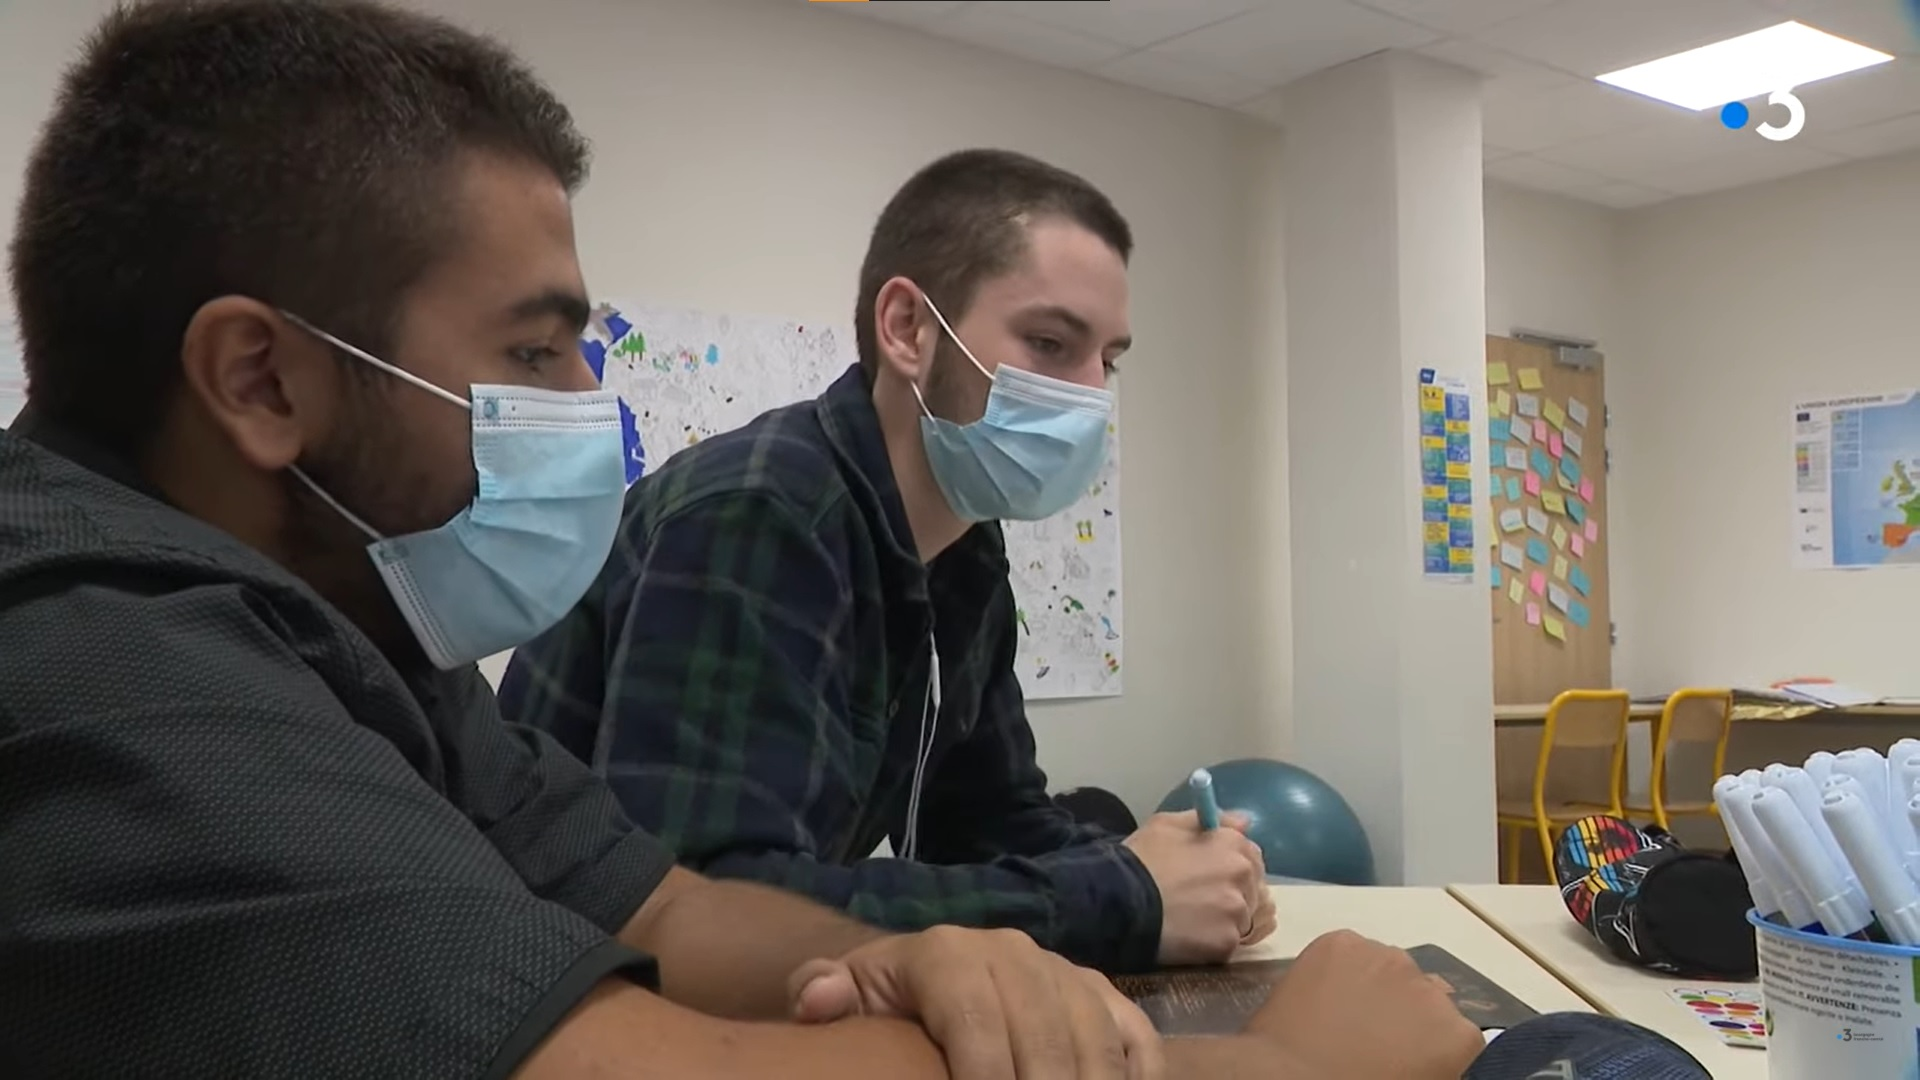with_mask: (284, 252, 639, 676), (918, 260, 1136, 545)
